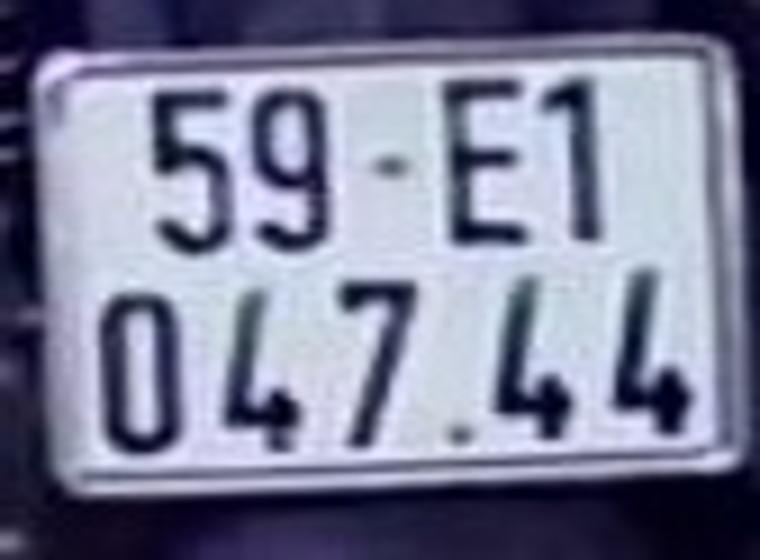-: (372, 154, 408, 176)
.: (451, 427, 466, 443)
0: (100, 292, 184, 457)
1: (543, 78, 601, 239)
4: (487, 277, 572, 442), (220, 286, 301, 455), (607, 271, 691, 433)
5: (149, 88, 236, 251)
7: (336, 283, 419, 446)
9: (251, 87, 332, 250)
E: (439, 78, 527, 243)
